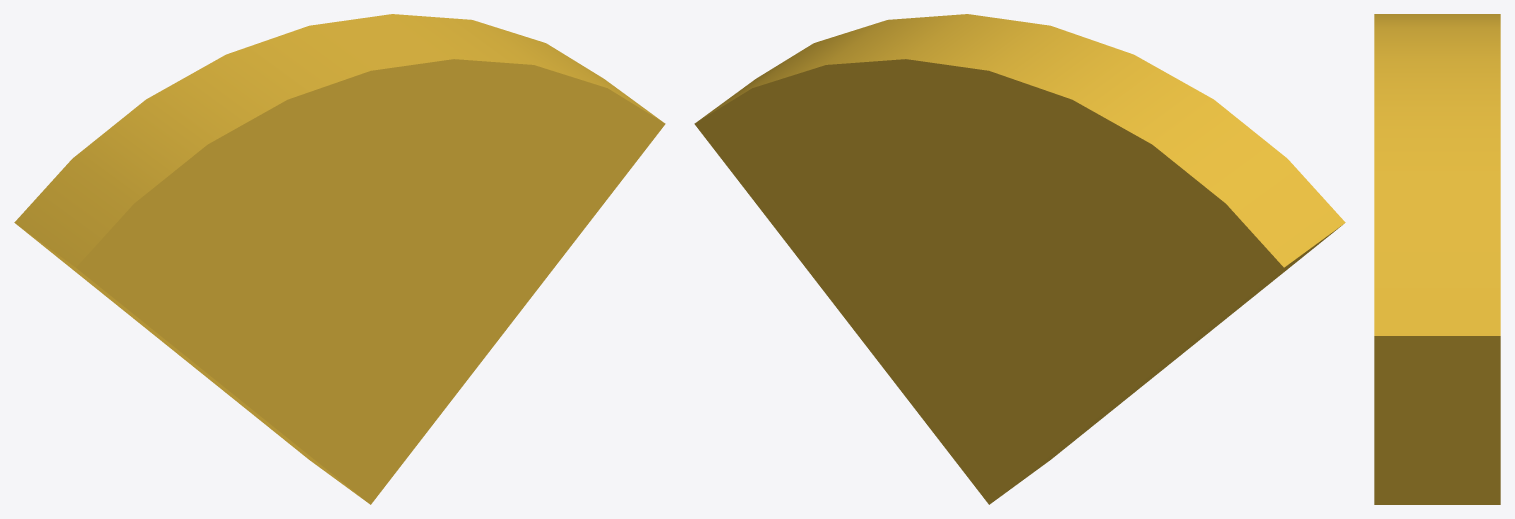
The model's file is slice_3.glb.
The picture shows the model from 3 angles, left to right: view 1: azimuth 30°, elevation 25°; view 2: azimuth 150°, elevation 25°; view 3: azimuth 270°, elevation 25°; orthographic projection. The views are drawn at different scales.
Visible parts, largest first — view 1: slice3; view 2: slice3; view 3: slice3.
Part boxes in pixels (x1=…): slice3: x1=14, y1=14, x2=665, y2=504; slice3: x1=694, y1=14, x2=1345, y2=504; slice3: x1=1374, y1=14, x2=1500, y2=504.
Size of the model in its own units: 1.11 by 0.7774 by 0.2.
